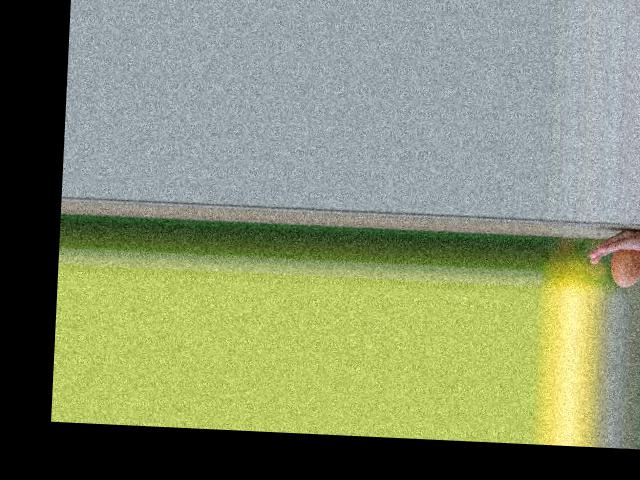egg: (610, 248, 640, 287)
